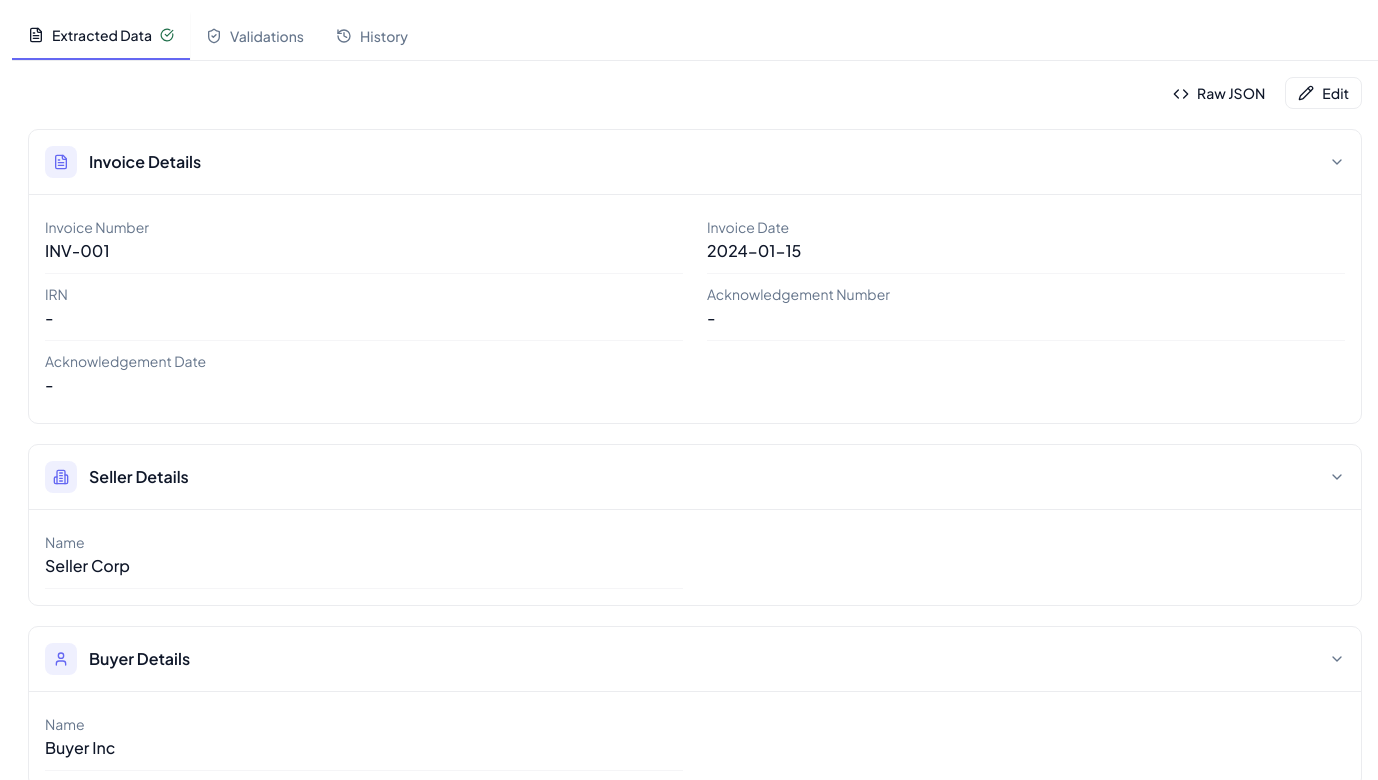
DocumentTabs › edit mode toolbar › shows Save and Cancel buttons after clicking Edit
Click the button "Edit" at (1324, 93), box [1285,77,1362,109]
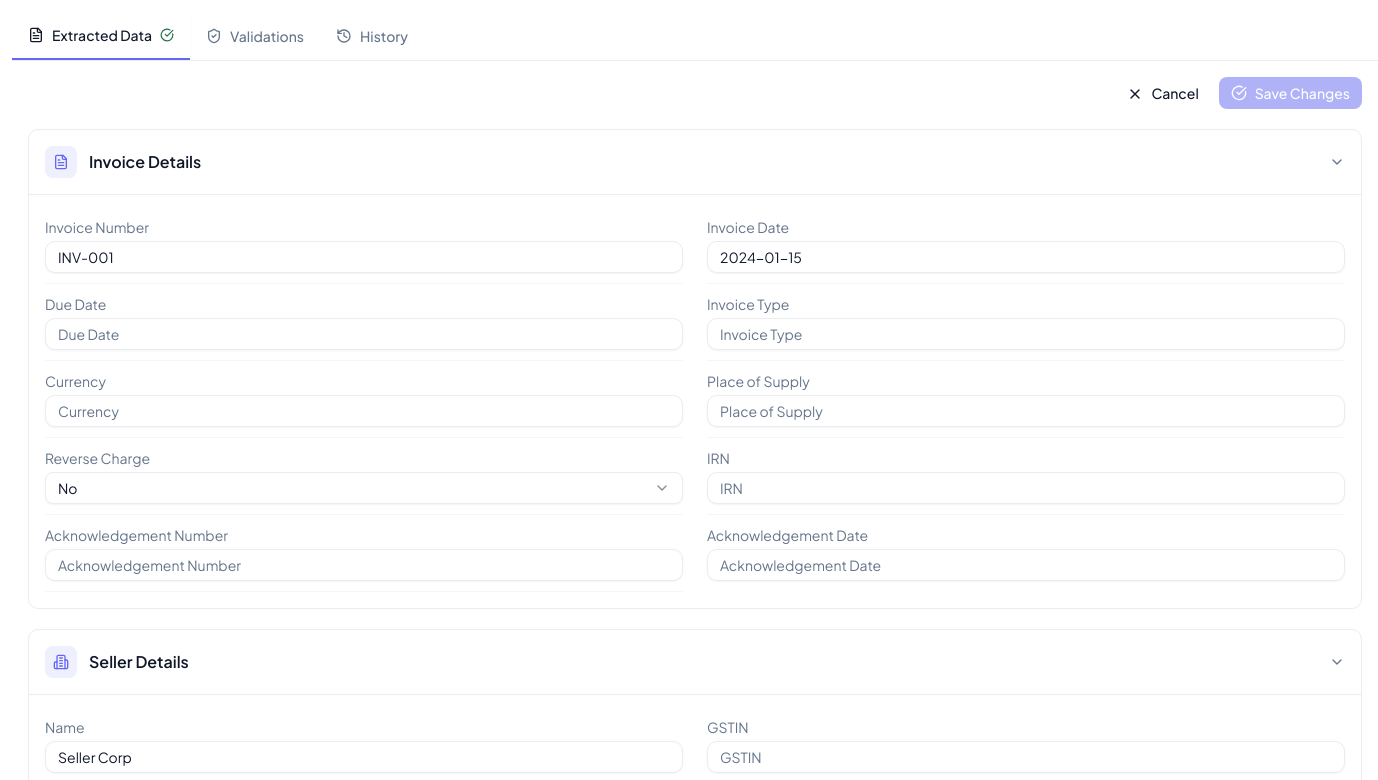
Check: the button "Save Changes" is shown, box [1219,77,1362,109]
Check: the button "Cancel" is shown, box [1115,77,1211,109]
